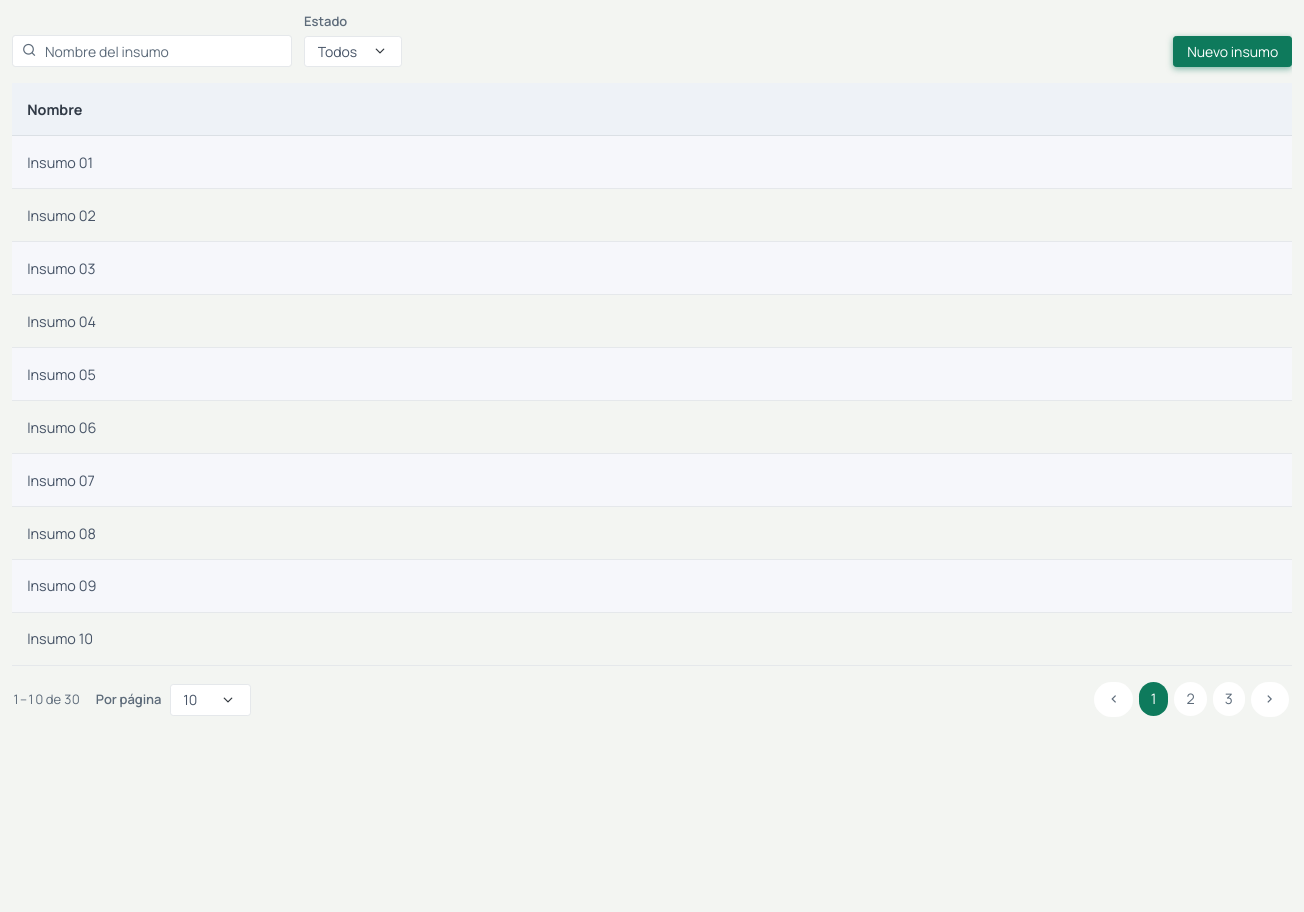
Test: DataTable › searches the rows loaded and starts again from the first page
Step 1. Click the button named "Página siguiente" → (1270, 700), box [1251, 682, 1289, 717]
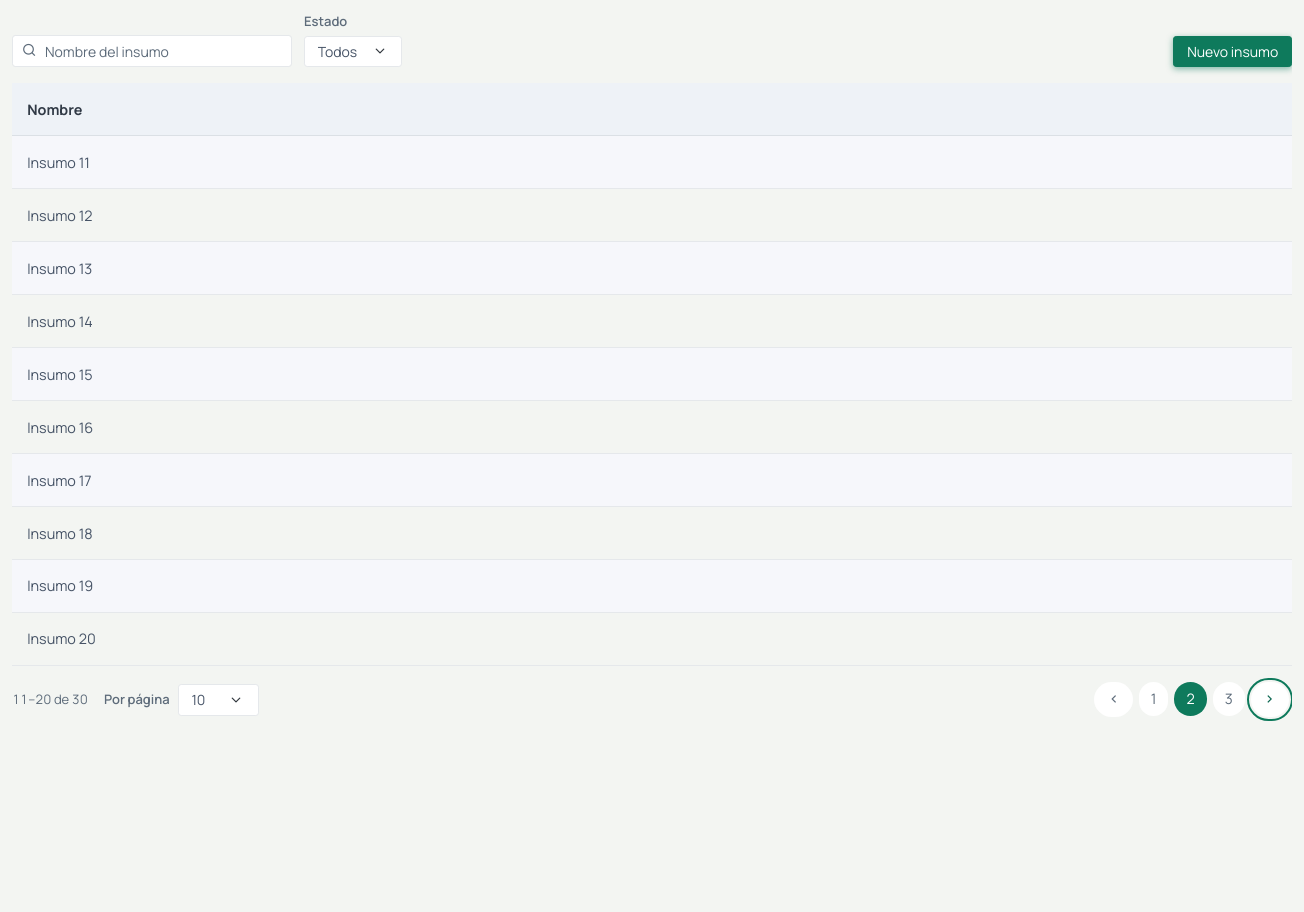
# "0" is in Insumo 01 to 10, 20 and 30: twelve rows, back on the first page.
Step 2. Type "0" into the search field labelled "Nombre del insumo" → (152, 52), box [12, 36, 292, 68]
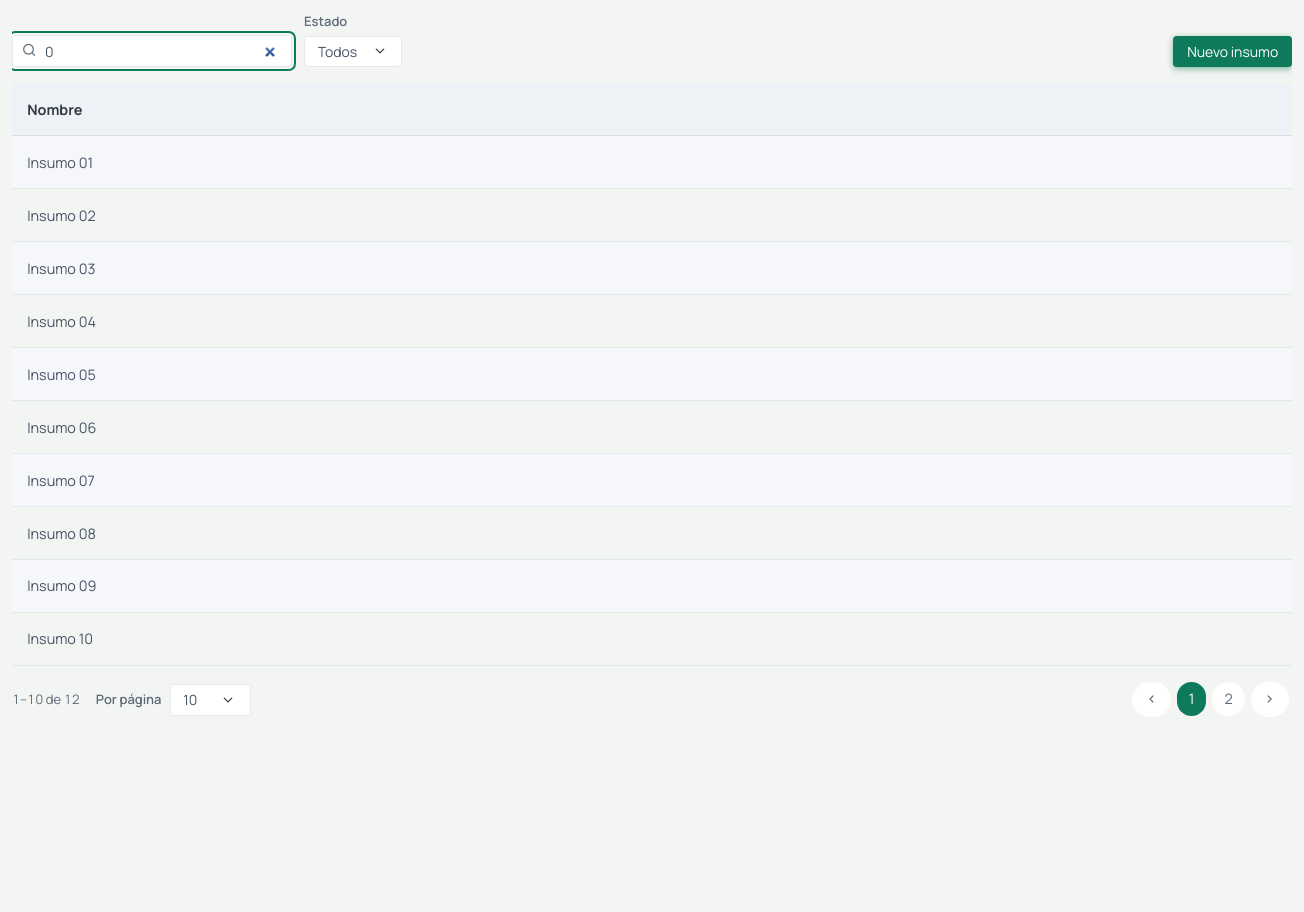
Expected: the text "1–10 de 12" is shown, [12, 690, 80, 709]
Expected: the cell "Insumo 01" is shown, [12, 136, 1292, 189]
